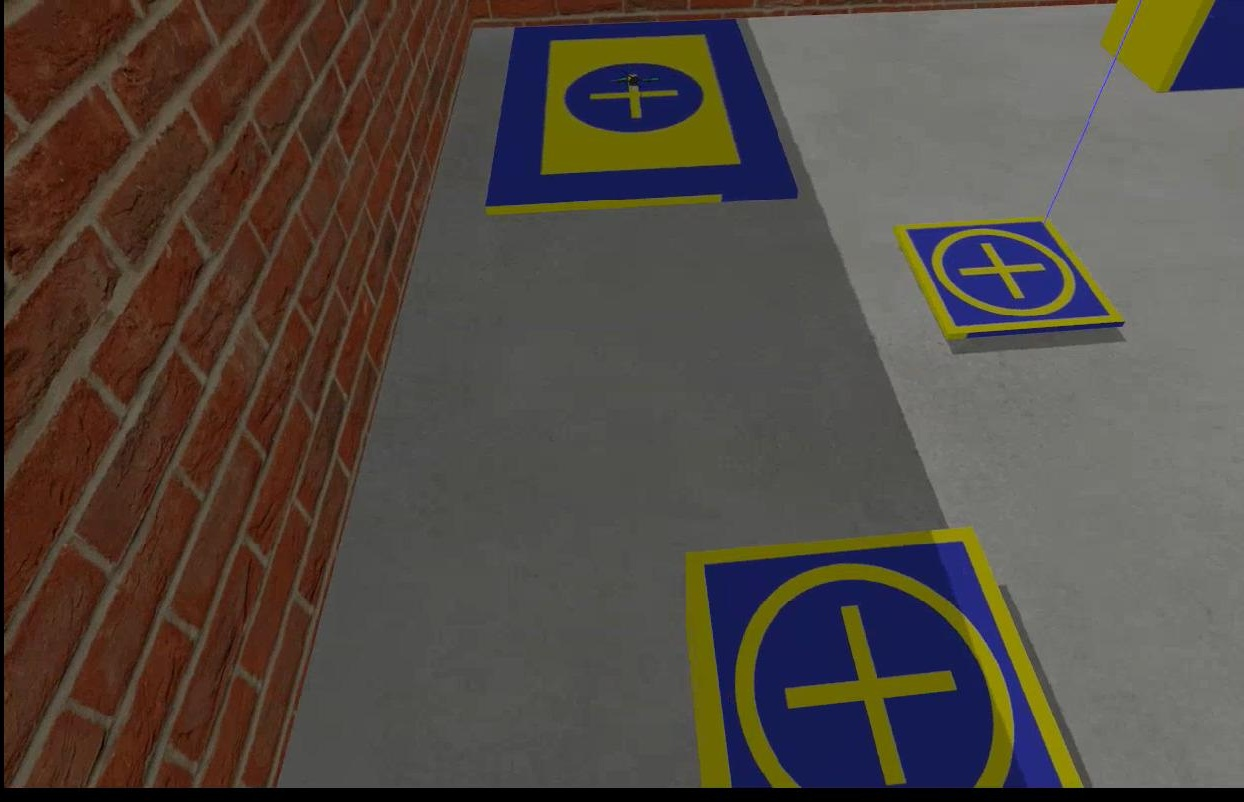large_base: (484, 20, 799, 214)
small_base: (680, 525, 1078, 791), (894, 209, 1121, 344)
